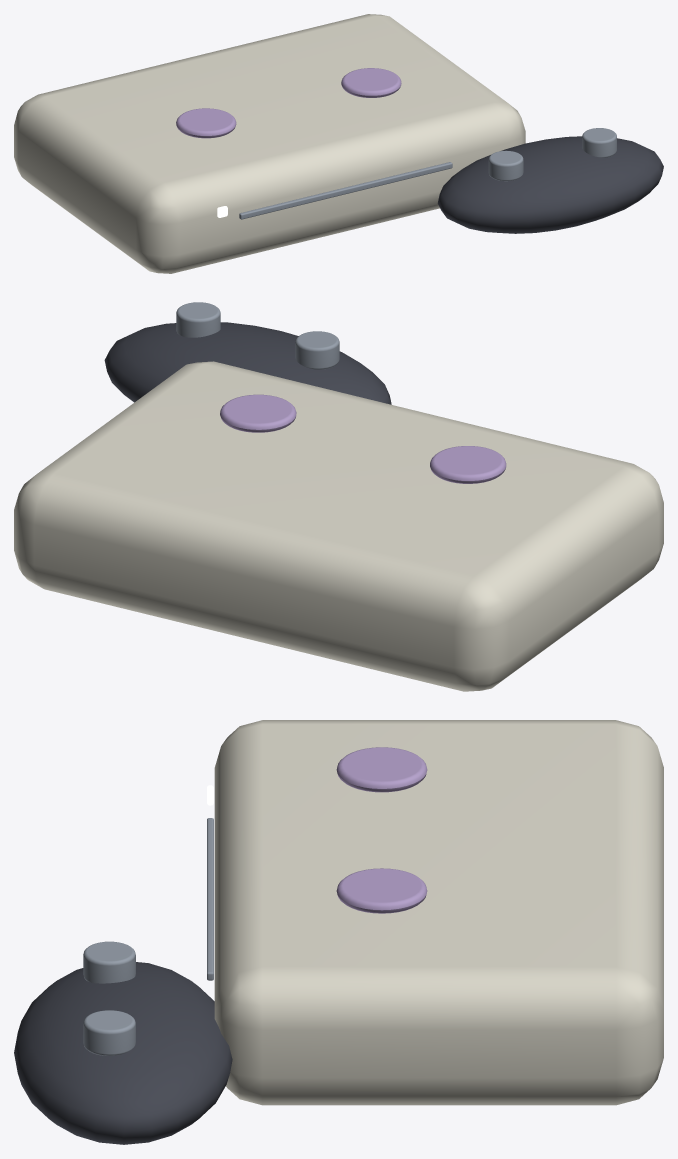
Rendered from consoleSnes.glb.
3 views of the same model, one above another, from view 1: azimuth 30°, elevation 25°; view 2: azimuth 150°, elevation 25°; view 3: azimuth 270°, elevation 25° (orthographic). The views are drawn at different scales.
Parts seen in each view (by area): view 1: Console housing, Controller, Disc slot, Top button, Top button.001, Controller stick, Controller stick.001; view 2: Console housing, Controller, Top button.001, Top button, Controller stick, Controller stick.001; view 3: Console housing, Controller, Top button.001, Top button, Controller stick.001, Controller stick, Disc slot.
Boxes of the visible parts, left/top/right/bottom form: Console housing: left=14, top=14, right=525, bottom=273; Controller: left=437, top=136, right=663, bottom=233; Disc slot: left=239, top=162, right=452, bottom=219; Top button: left=176, top=108, right=236, bottom=138; Top button.001: left=341, top=68, right=401, bottom=97; Controller stick: left=488, top=150, right=523, bottom=181; Controller stick.001: left=582, top=128, right=616, bottom=157; Console housing: left=14, top=361, right=663, bottom=691; Controller: left=104, top=322, right=391, bottom=404; Top button.001: left=220, top=394, right=296, bottom=432; Top button: left=430, top=446, right=506, bottom=483; Controller stick: left=295, top=331, right=339, bottom=369; Controller stick.001: left=176, top=302, right=220, bottom=337; Console housing: left=214, top=720, right=663, bottom=1105; Controller: left=14, top=962, right=232, bottom=1144; Top button.001: left=336, top=868, right=427, bottom=913; Top button: left=336, top=747, right=427, bottom=792; Controller stick.001: left=83, top=1010, right=135, bottom=1055; Controller stick: left=83, top=941, right=135, bottom=983; Disc slot: left=207, top=818, right=213, bottom=980.
Size of the model in its own units: 1.73 by 0.3575 by 1.36.
